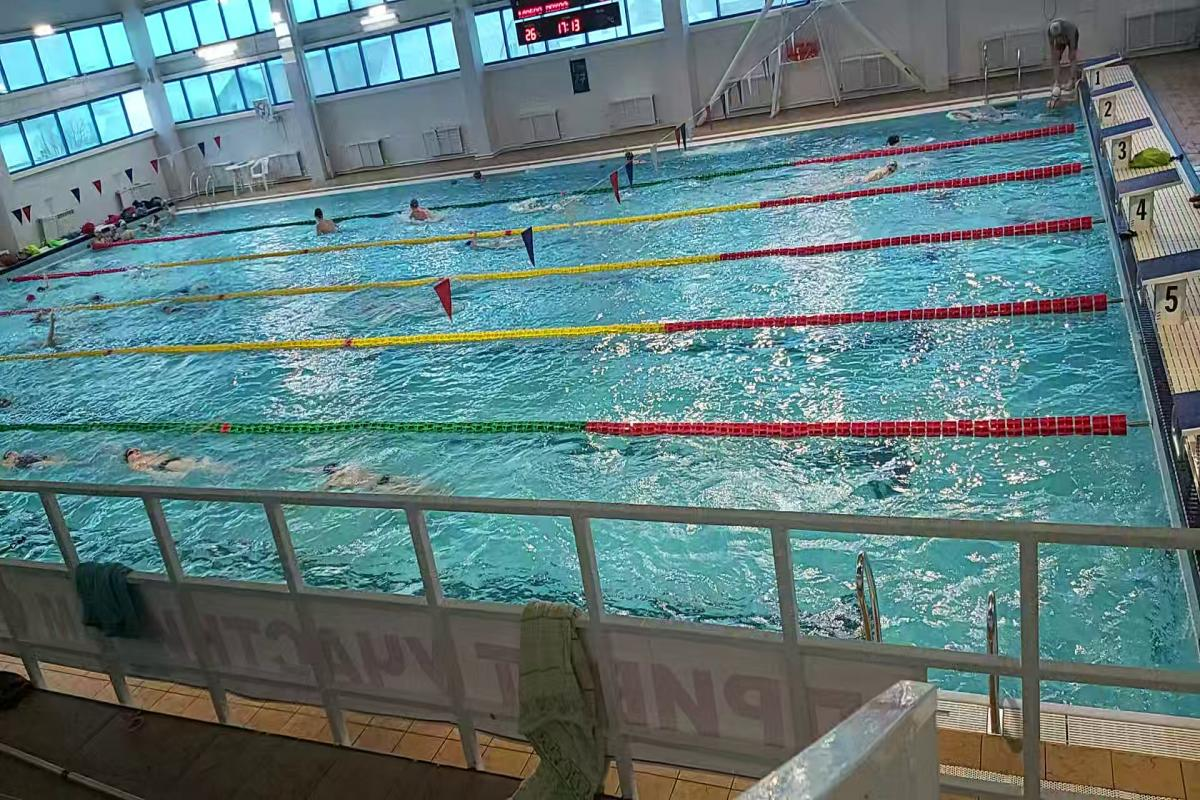swimmer: (296, 451, 453, 496), (116, 435, 246, 482), (3, 436, 85, 477), (828, 160, 913, 187), (37, 310, 72, 352), (462, 228, 518, 254), (407, 192, 443, 230), (310, 201, 345, 240)
